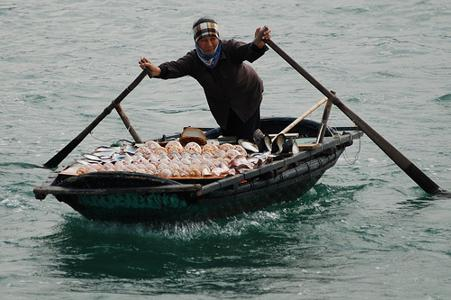person: (139, 18, 273, 139)
